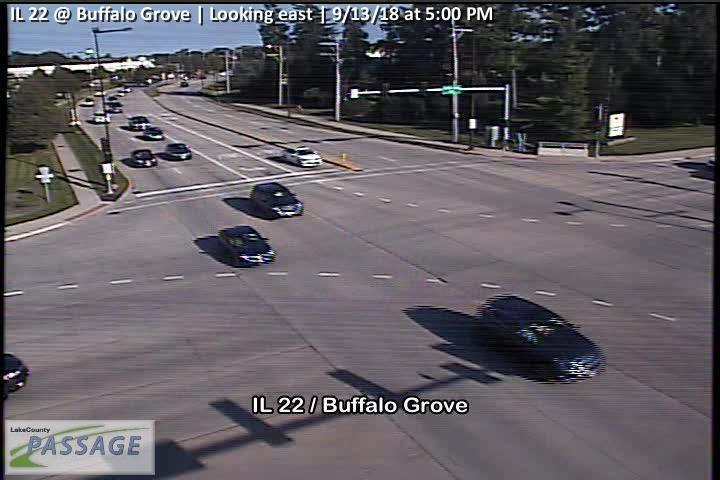SUV: (468, 294, 605, 385), (249, 181, 304, 219), (127, 115, 151, 130), (90, 111, 112, 123)
Sedan: (218, 225, 276, 267), (281, 145, 321, 167), (130, 149, 158, 168), (164, 143, 193, 160), (144, 127, 164, 140)
